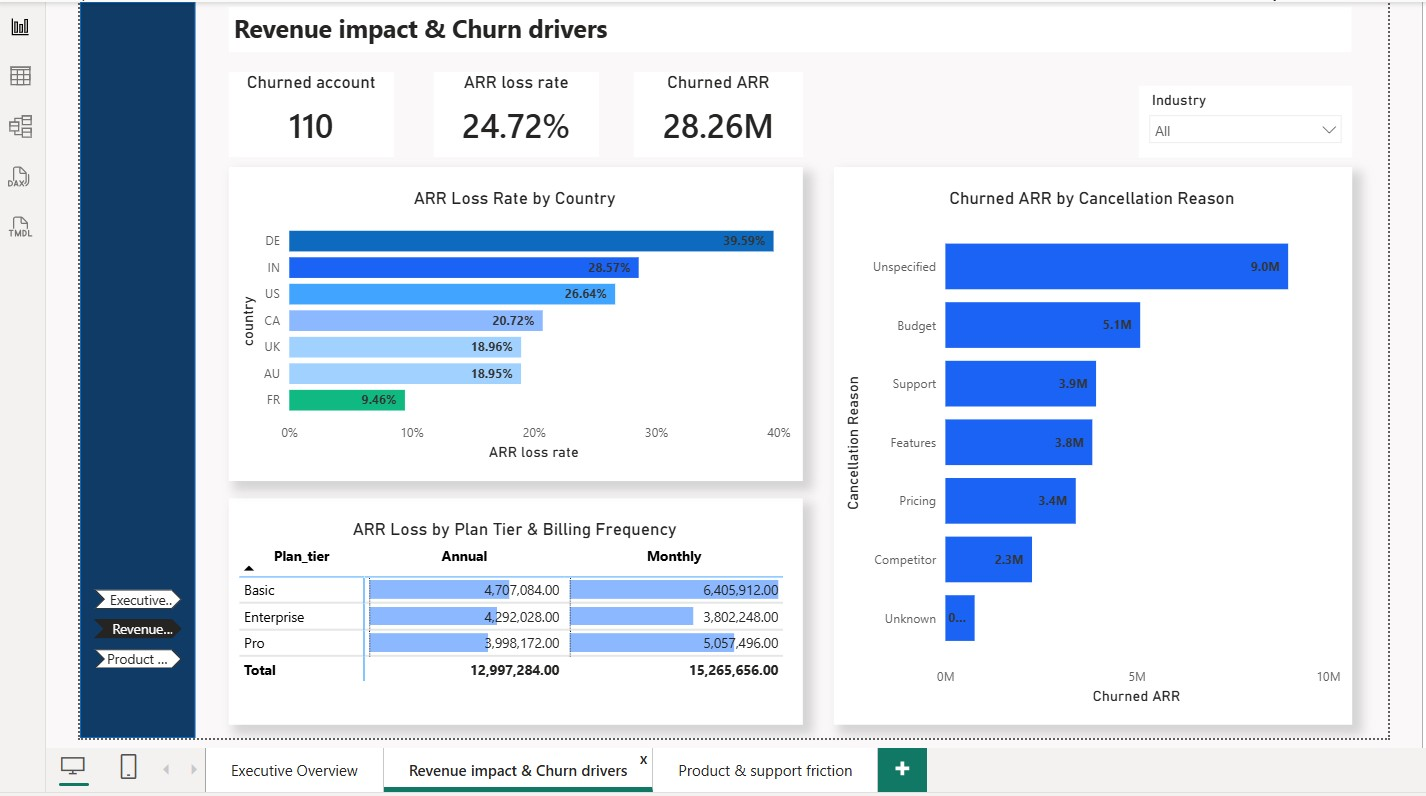

The dashboard page shown, as its layout file describes it:
{"tool":"powerbi","page":{"name":"Revenue impact & Churn drivers","canvas":[1280,720],"ordinal":1},"visuals":[{"type":"shape","box":[0,0,112.9,720],"z":0},{"type":"cardVisual","title":"Churned ARR","fields":{"Data":["_Measures.Churned ARR"]},"box":[541.4,68.6,165.7,82.9],"z":1000},{"type":"cardVisual","title":"ARR loss rate","fields":{"Data":["_Measures.ARR loss rate"]},"box":[345.7,68.6,161.4,82.9],"z":2000},{"type":"clusteredBarChart","title":"Churned ARR by Cancellation Reason","fields":{"Category":["churn_events.reason_code"],"Y":["_Measures.Churned ARR"]},"box":[737.1,161.4,507.1,545.7],"z":3000},{"type":"pivotTable","title":"ARR Loss by Plan Tier & Billing Frequency","fields":{"Rows":["accounts.plan_tier"],"Columns":["subscriptions.billing_frequency"],"Values":["_Measures.Churned ARR"]},"box":[145.7,485.7,561.4,221.4],"z":4000},{"type":"slicer","fields":{"Values":["accounts.industry"]},"box":[1035.7,81.4,208.6,70],"z":5000},{"type":"clusteredBarChart","title":"ARR Loss Rate by Country","fields":{"Y":["_Measures.ARR loss rate"],"Category":["accounts.country"]},"box":[145.7,161.4,561.4,307.1],"z":6000},{"type":"cardVisual","title":"Churned account","fields":{"Data":["_Measures.Churned Accounts"]},"box":[145.7,68.6,161.4,82.9],"z":7000},{"type":"pageNavigator","box":[13.5,574.7,86.8,78.3],"z":8000},{"type":"textbox","box":[145.7,4.3,1098.6,44.3],"z":9000}]}

Visuals, with their boxes on the page's 1280x720 design canvas (x1, y1, x2, y2). These are canvas units, not pixel positions in the 1426x796 screenshot, which may show the page scaled, cropped or inside an application window:
shape: [x1=0, y1=0, x2=113, y2=720]
"Churned ARR" cardVisual: [x1=541, y1=69, x2=707, y2=152]
"ARR loss rate" cardVisual: [x1=346, y1=69, x2=507, y2=152]
"Churned ARR by Cancellation Reason" clusteredBarChart: [x1=737, y1=161, x2=1244, y2=707]
"ARR Loss by Plan Tier & Billing Frequency" pivotTable: [x1=146, y1=486, x2=707, y2=707]
slicer - accounts.industry: [x1=1036, y1=81, x2=1244, y2=151]
"ARR Loss Rate by Country" clusteredBarChart: [x1=146, y1=161, x2=707, y2=468]
"Churned account" cardVisual: [x1=146, y1=69, x2=307, y2=152]
pageNavigator: [x1=14, y1=575, x2=100, y2=653]
textbox: [x1=146, y1=4, x2=1244, y2=49]
